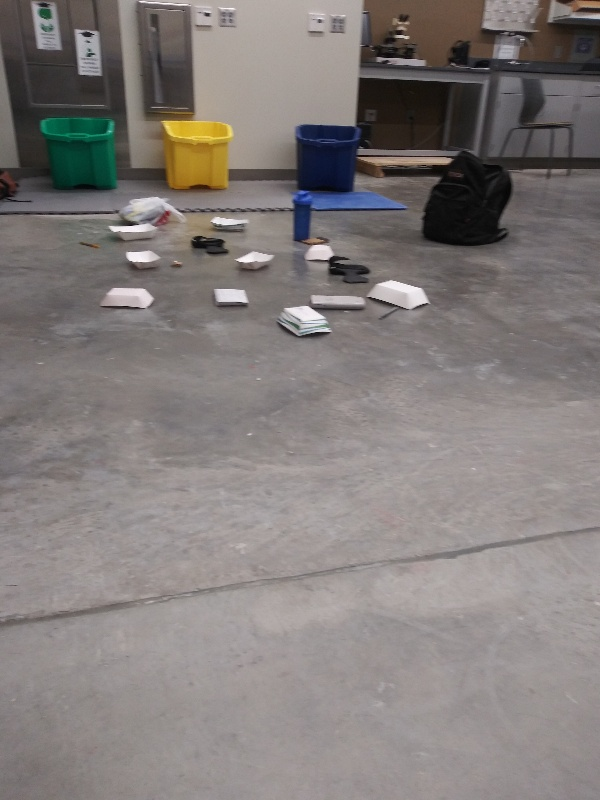plate: (365, 275, 433, 313), (271, 301, 336, 339), (96, 283, 159, 313), (106, 218, 163, 244), (119, 244, 167, 271), (205, 211, 254, 236), (229, 249, 280, 273), (300, 239, 335, 265)
